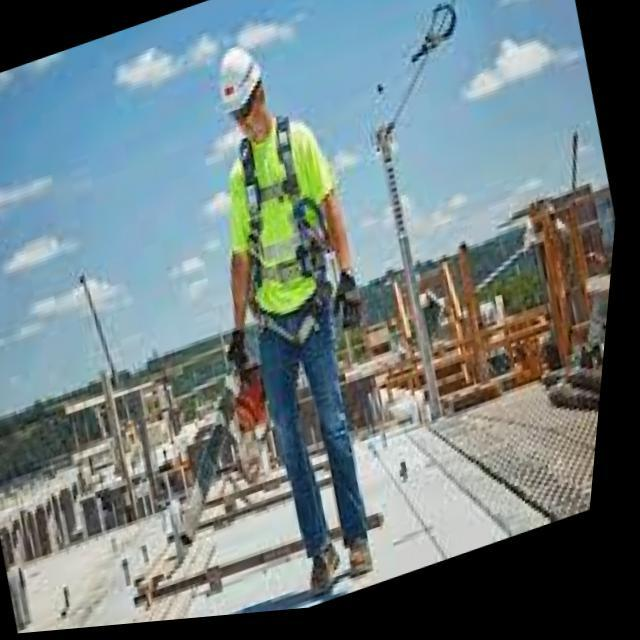belt: (195, 106, 397, 401)
